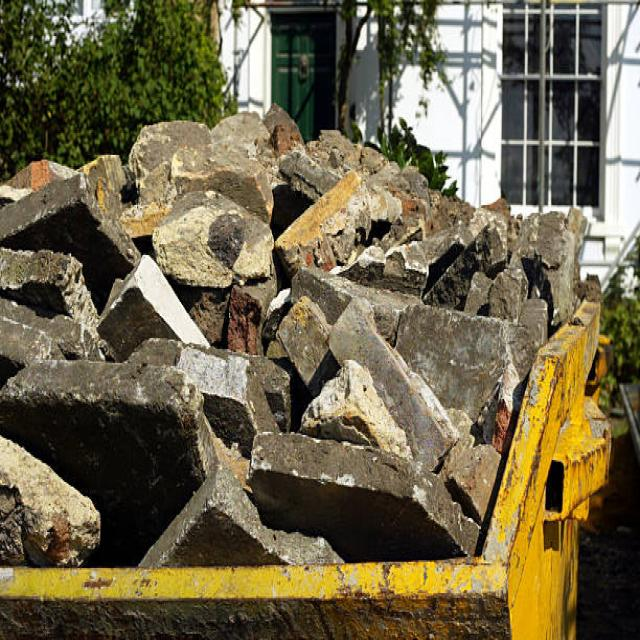trash: (27, 134, 586, 606)
